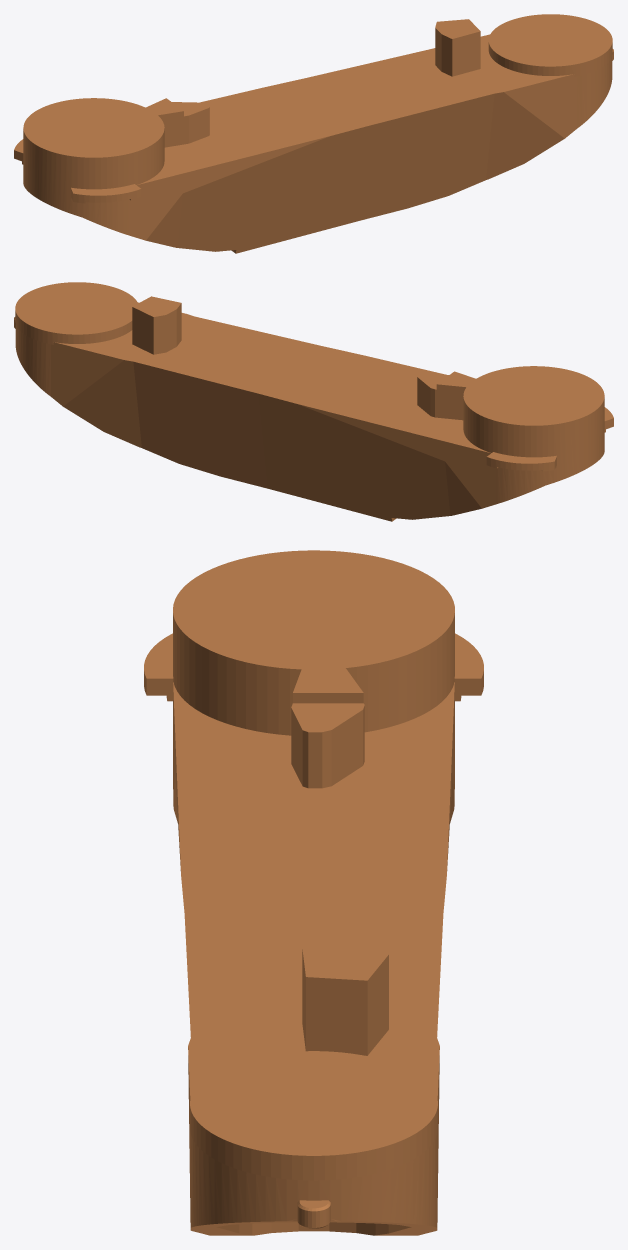
3 renders of one model, top to bottom at view 1: azimuth 30°, elevation 25°; view 2: azimuth 150°, elevation 25°; view 3: azimuth 270°, elevation 25°, orthographic. The views are drawn at different scales.
Visible parts, largest first — view 1: /Link_2/Link_2_001-mesh/0; view 2: /Link_2/Link_2_001-mesh/0; view 3: /Link_2/Link_2_001-mesh/0.
Boxes of the visible parts, x1,y1,x2,y2 form: /Link_2/Link_2_001-mesh/0: (14,14,613,253); /Link_2/Link_2_001-mesh/0: (14,282,613,521); /Link_2/Link_2_001-mesh/0: (144,550,483,1235).
Bounding box in the file's own units: 0.8636 × 0.1995 × 0.2194.
